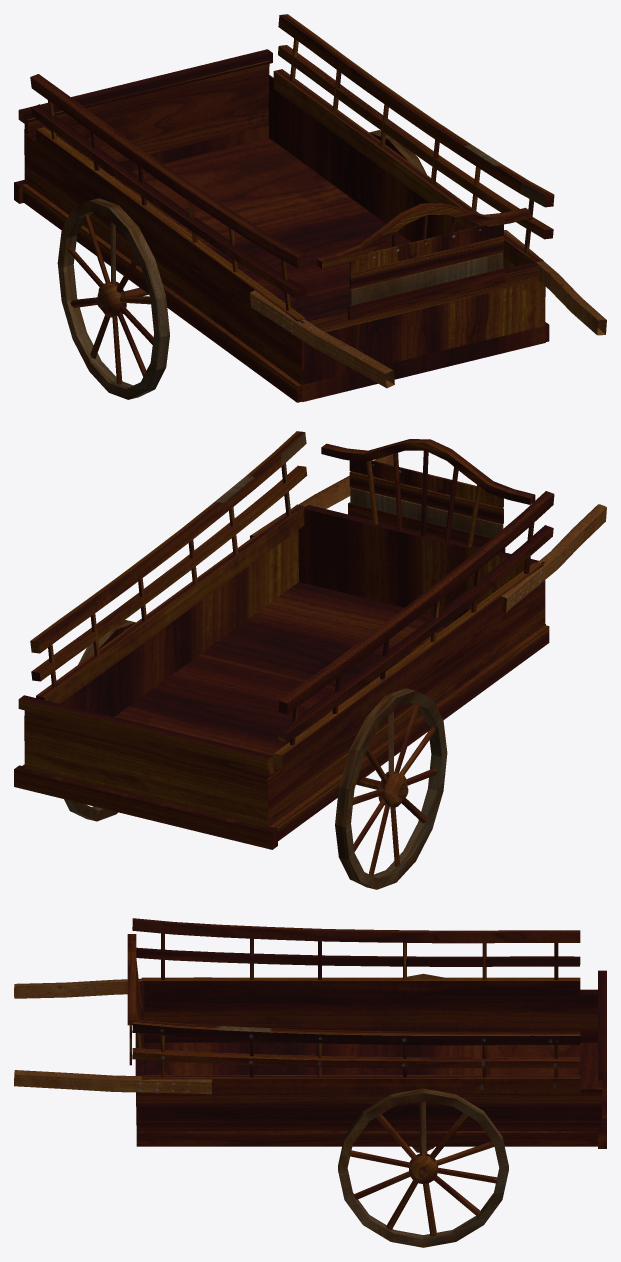
File: Caravan.fbx
3 views of the same model, one above another, from view 1: azimuth 30°, elevation 25°; view 2: azimuth 150°, elevation 25°; view 3: azimuth 270°, elevation 25° (orthographic). The views are drawn at different scales.
Parts seen in each view (by area): view 1: Cylinder.003, Cylinder.013, Cylinder.001; view 2: Cylinder.003, Cylinder.013, Cylinder.001; view 3: Cylinder.003, Cylinder.001.
Boxes of the visible parts, left/top/right/bottom form: Cylinder.003: left=14, top=14, right=606, bottom=402; Cylinder.013: left=57, top=198, right=169, bottom=399; Cylinder.001: left=369, top=130, right=426, bottom=174; Cylinder.003: left=14, top=431, right=606, bottom=849; Cylinder.013: left=335, top=688, right=447, bottom=889; Cylinder.001: left=64, top=620, right=135, bottom=821; Cylinder.003: left=14, top=918, right=606, bottom=1148; Cylinder.001: left=338, top=1088, right=508, bottom=1247.
Bounding box in the file's own units: 350 × 303 × 693.
